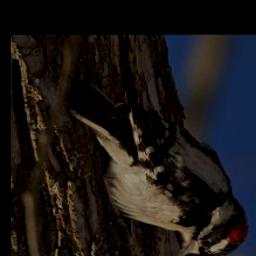Woodpecker: (68, 77, 250, 256)
